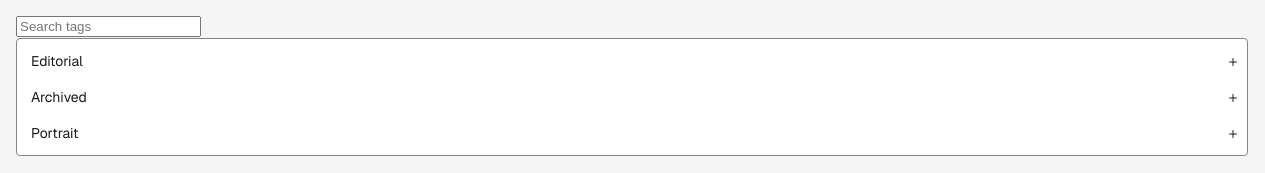
Test case: TagPicker › filters options case-insensitively as the query changes
Type "POR" into the search field named "Select tags" at (108, 26), box [16, 16, 201, 37]
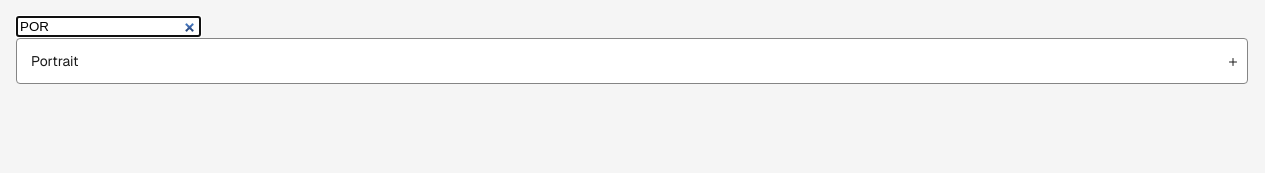
Expected: the option "Portrait" is shown, [21, 43, 1243, 79]
Now the option "Editorial" is gone
